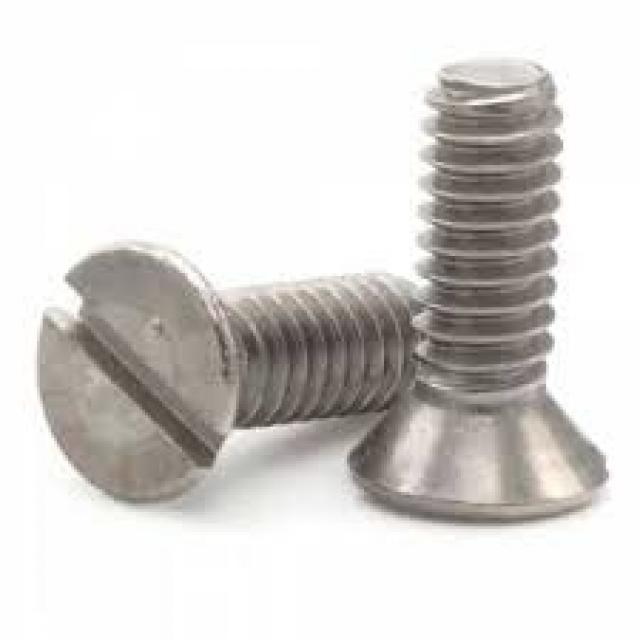Screw: (344, 60, 609, 523)
